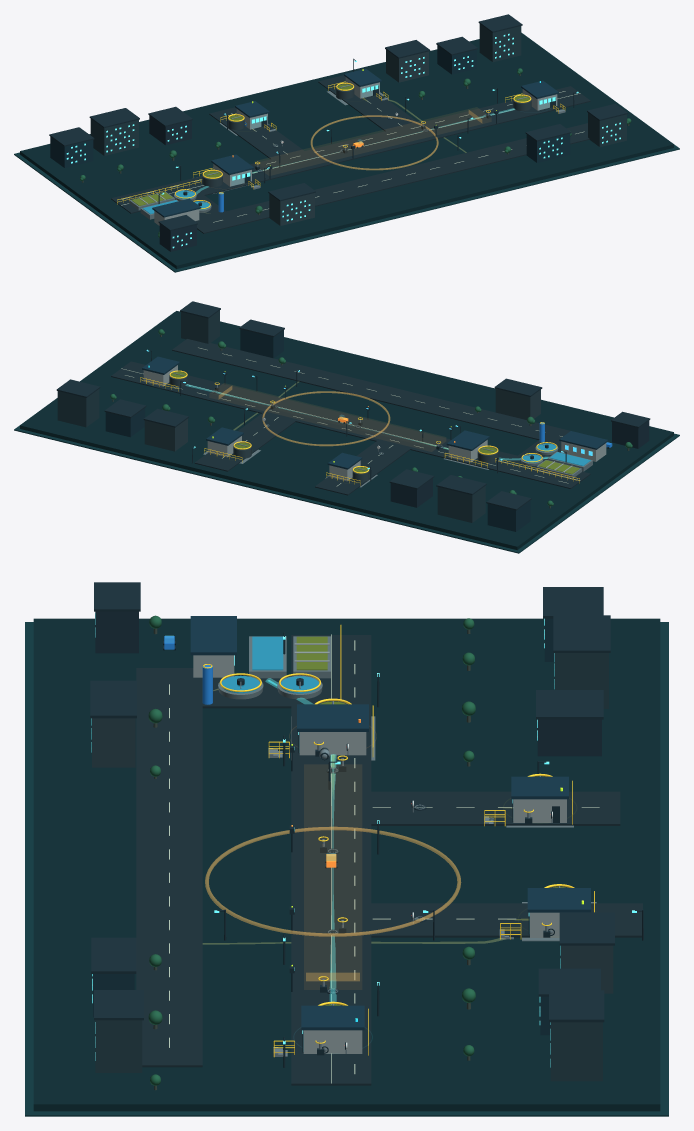
Rendered from network.glb.
3 views of the same model, one above another, from view 1: azimuth 30°, elevation 25°; view 2: azimuth 150°, elevation 25°; view 3: azimuth 270°, elevation 25° (orthographic). The views are drawn at different scales.
Size of the model in its own units: 67 by 4.52 by 37.
